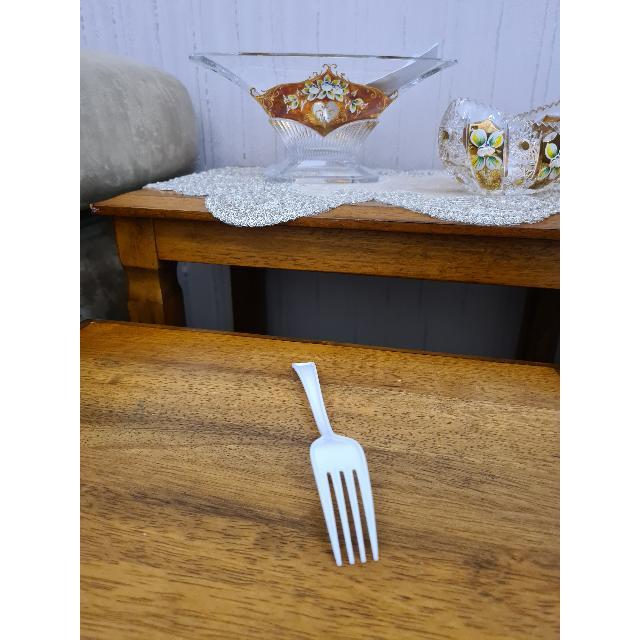Plastico descartable: (292, 362, 379, 566)
